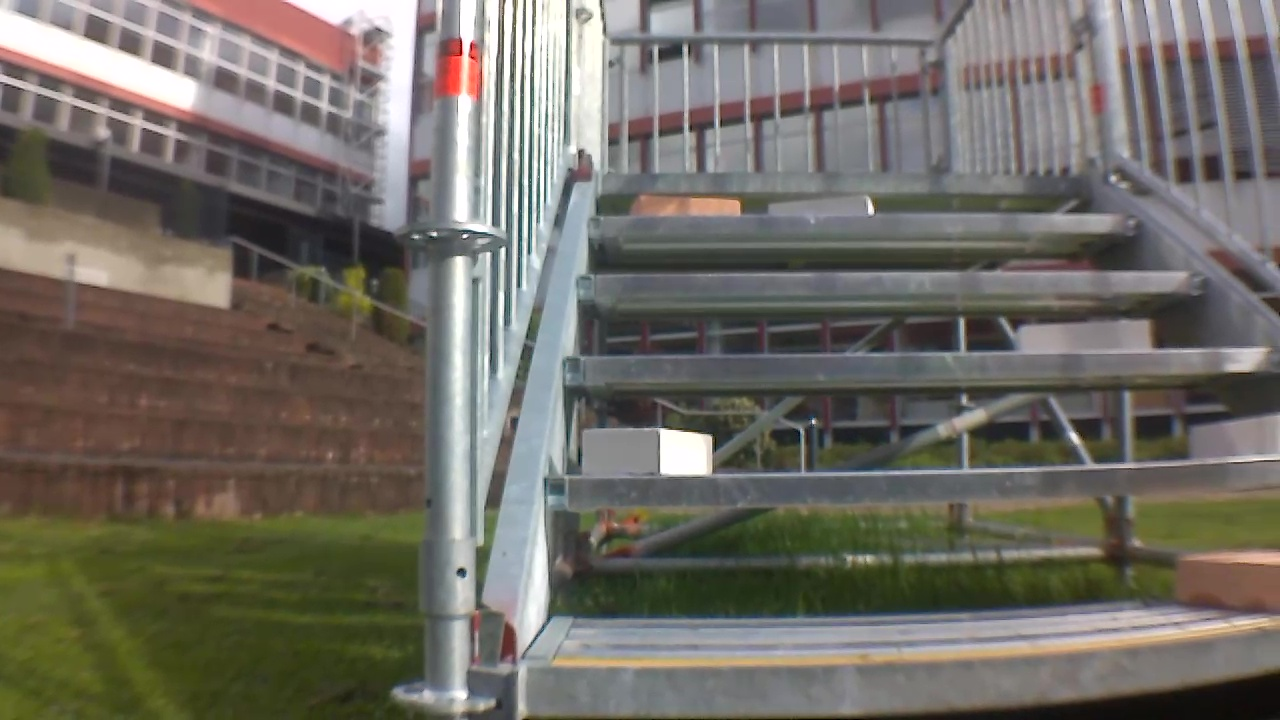brick: (582, 427, 712, 475), (1175, 553, 1280, 610), (1192, 414, 1278, 457), (1020, 321, 1149, 349), (629, 195, 740, 216), (769, 194, 872, 214)
edge: (528, 623, 1280, 715), (546, 459, 1277, 506), (560, 348, 1280, 382), (578, 271, 1210, 295), (585, 214, 1137, 235), (597, 172, 1084, 193)
stairs: (404, 3, 1280, 720)
steps: (514, 168, 1280, 720)
